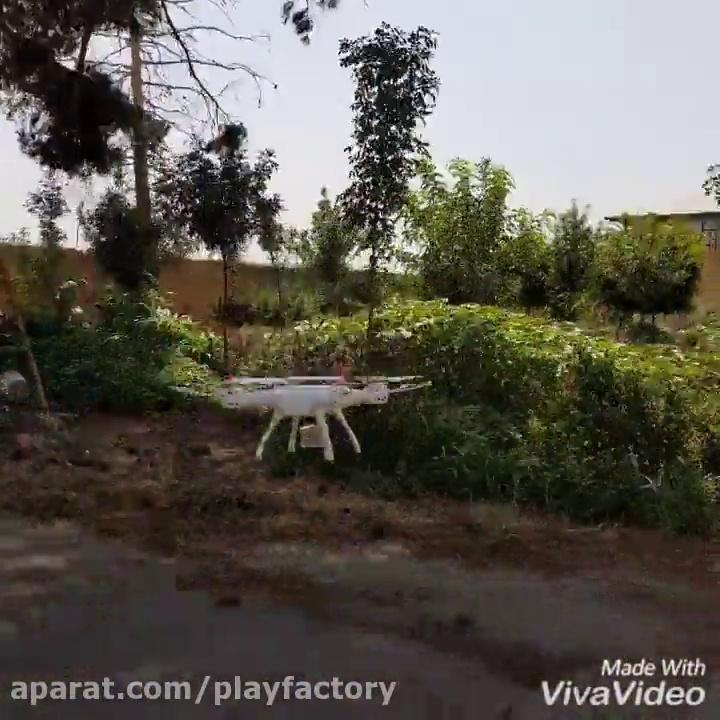drone: (167, 362, 433, 459)
